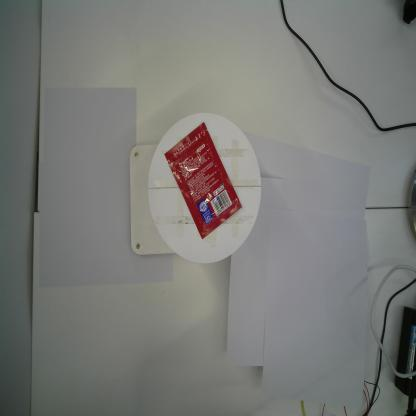Seasoner: (164, 122, 242, 240)
